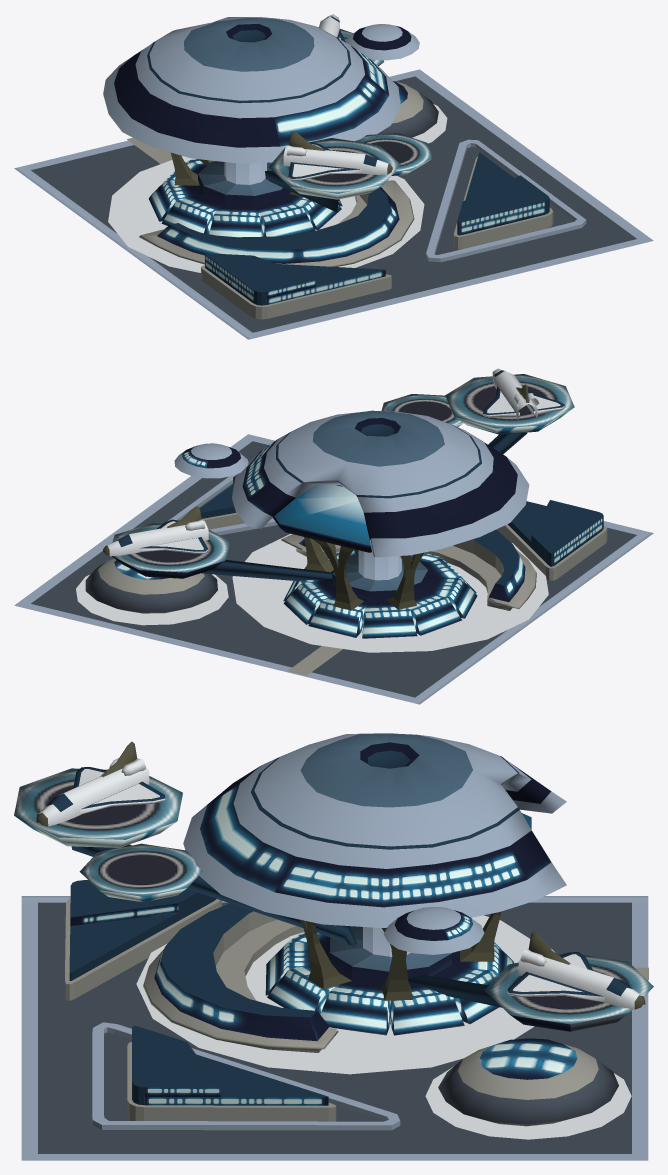
The model's file is spacestation_LV2.fbx.
3 renders of one model, top to bottom at view 1: azimuth 30°, elevation 25°; view 2: azimuth 150°, elevation 25°; view 3: azimuth 270°, elevation 25°, orthographic. The views are drawn at different scales.
Visible parts, largest first — view 1: space 2; view 2: space 2; view 3: space 2.
Boxes of the visible parts, x1,y1,x2,y2 form: space 2: (14,14,653,339); space 2: (14,368,653,704); space 2: (14,733,653,1160).
Bounding box in the file's own units: 240 × 97.48 × 245.
